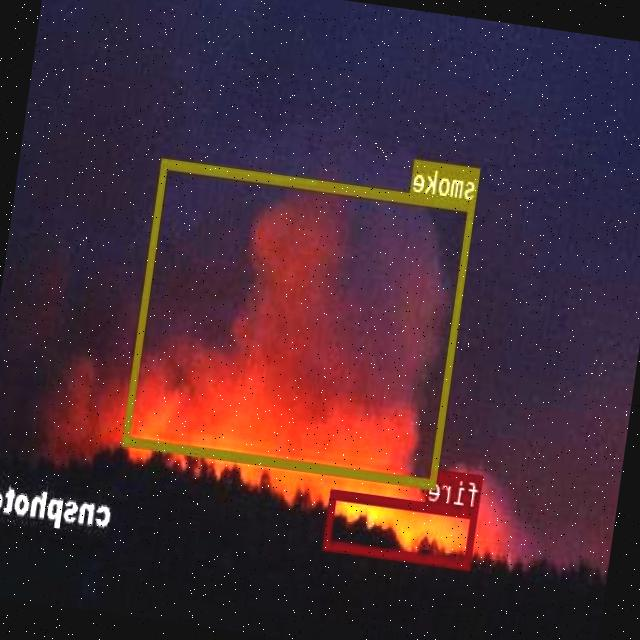fire: (325, 488, 479, 568)
smoke: (124, 158, 477, 487)
